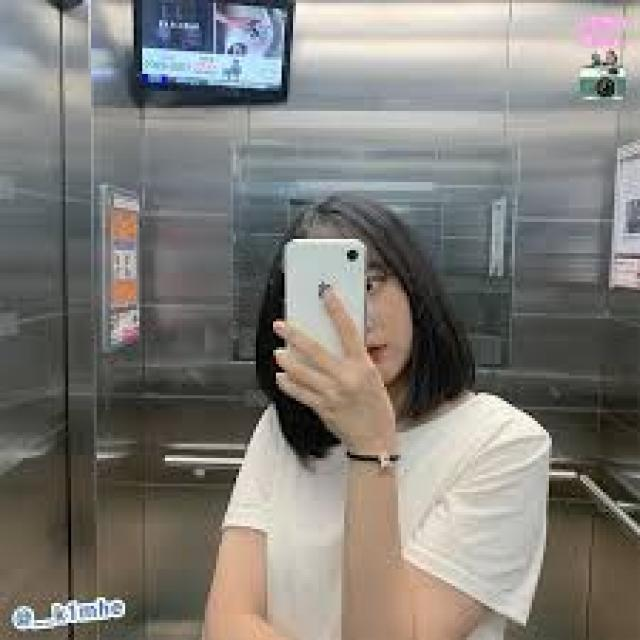Phone: (280, 232, 370, 367)
